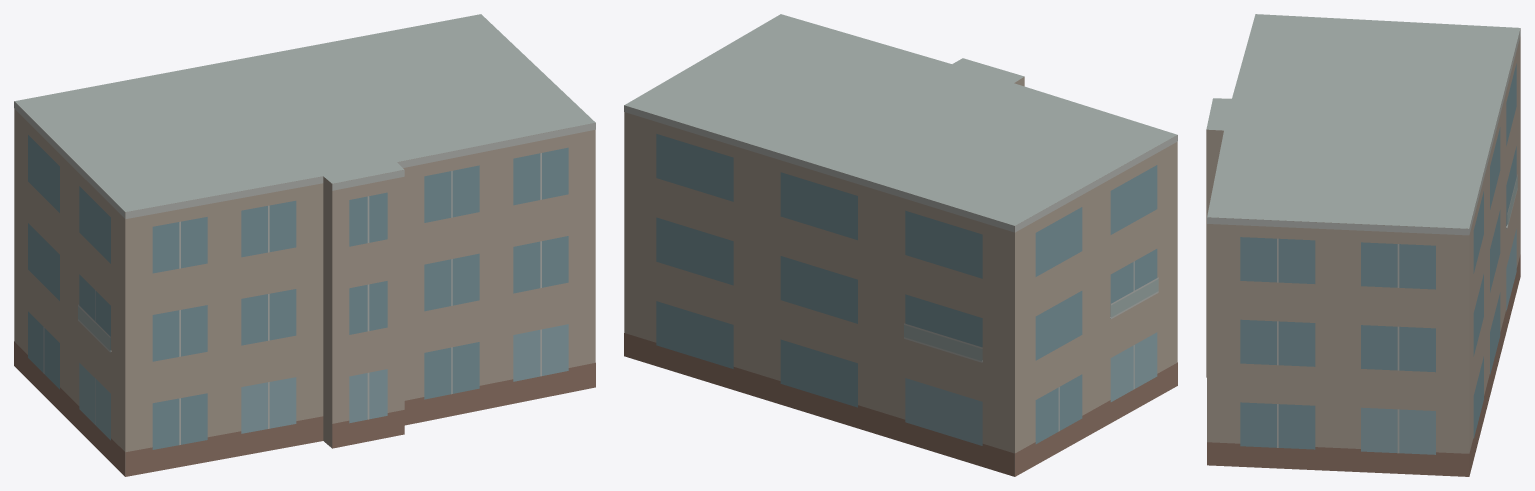
File: survey-upis-32577697.glb
The picture shows the model from 3 angles, left to right: view 1: azimuth 30°, elevation 25°; view 2: azimuth 150°, elevation 25°; view 3: azimuth 270°, elevation 25°; orthographic projection. The views are drawn at different scales.
Visible parts, largest first — view 1: survey-upis-32577697.tmp; view 2: survey-upis-32577697.tmp; view 3: survey-upis-32577697.tmp.
Boxes of the visible parts, bbox=[...] form: survey-upis-32577697.tmp: bbox=[14, 14, 595, 476]; survey-upis-32577697.tmp: bbox=[624, 14, 1177, 476]; survey-upis-32577697.tmp: bbox=[1206, 14, 1520, 476].
Size of the model in its own units: 17.01 by 9.15 by 10.52.
